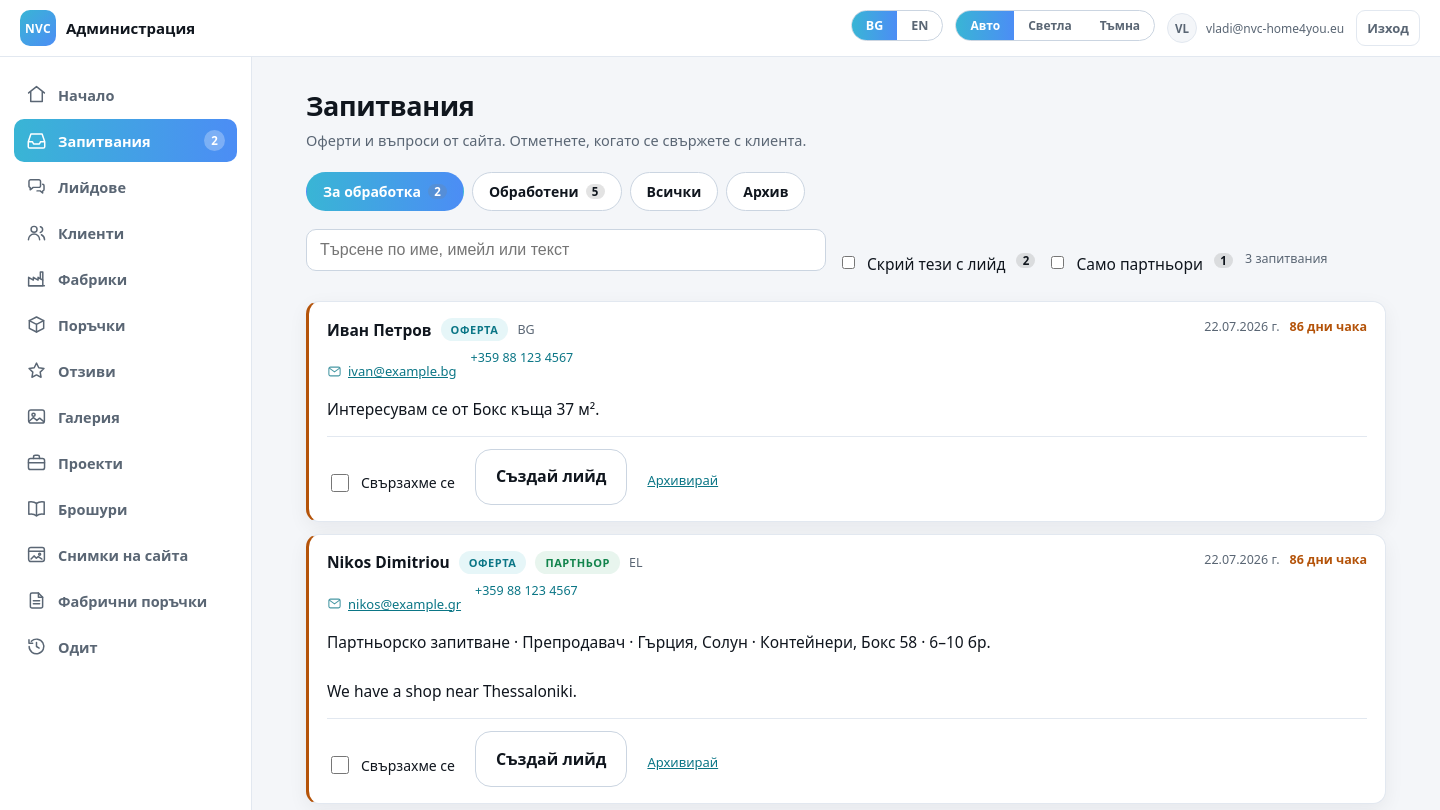
AdminInquiriesPage › narrows the list to partner inquiries, counting them on the label
Expected: the text "Иван Петров" is shown, [327, 318, 432, 340]
Expected: the label "Само партньори 1" is shown, [1047, 253, 1233, 275]
Click the checkbox labelled "Само партньори 1": x=1058, y=262 [1051, 256, 1064, 269]
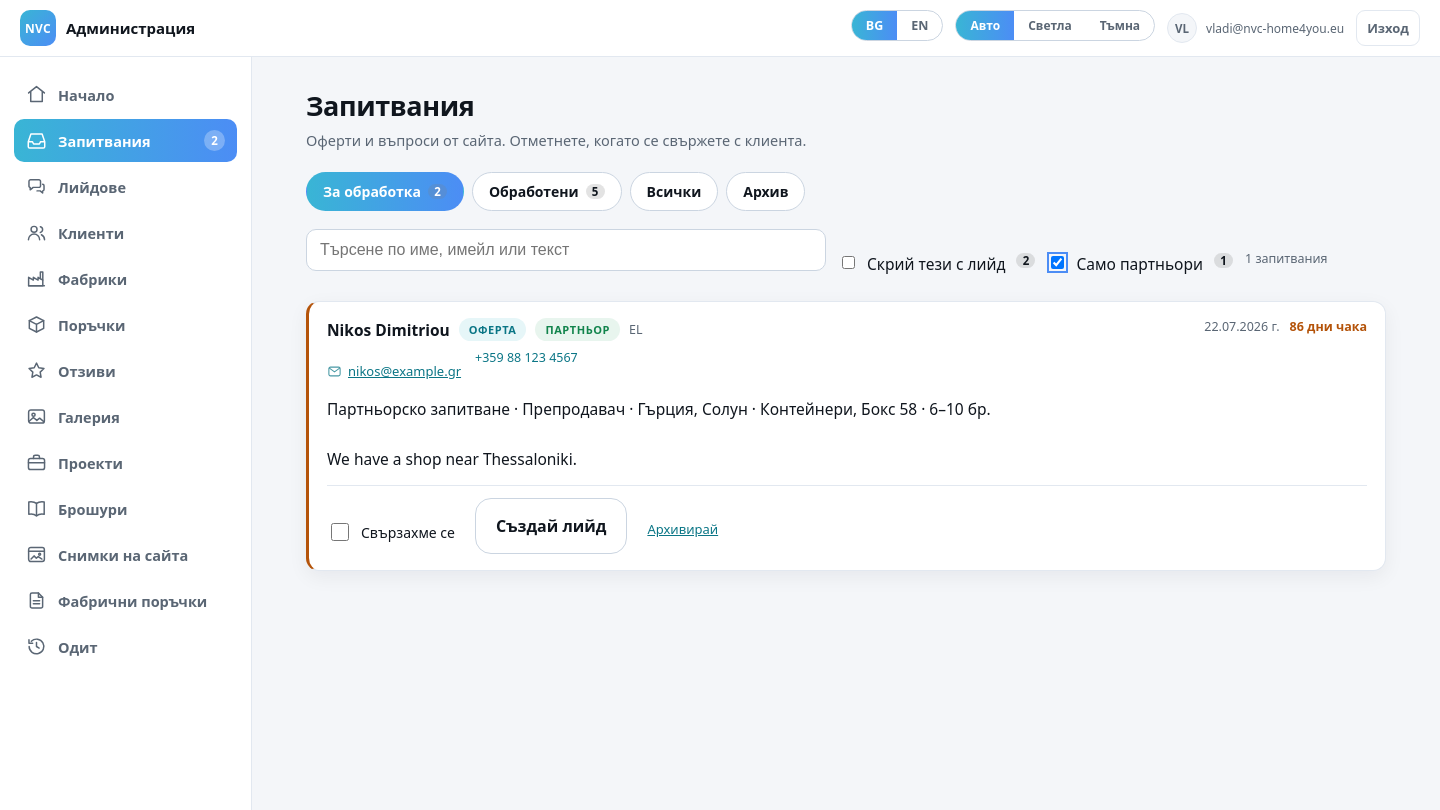
Expected: the text "Nikos Dimitriou" is shown, [327, 318, 450, 340]
Now the text "Иван Петров" is gone
